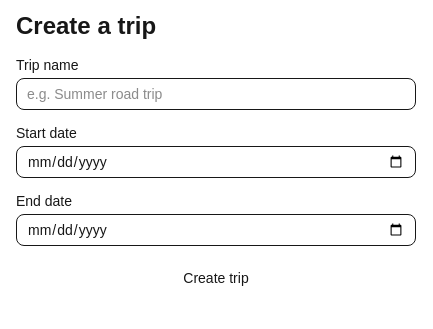
CreateTripPageView — form validation: end date before start date › shows date order error when end date is before start date
The image size is (433, 329).
Step 1. Type "My Trip" into the field labelled "Trip name" → (216, 94), box x1=16 y1=78 x2=416 y2=110
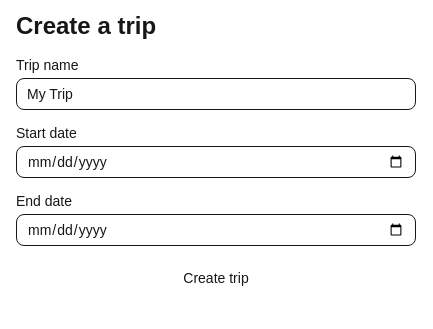
Step 2. Type "2025-06-10" into the date field labelled "Start date" → (216, 162), box x1=16 y1=146 x2=416 y2=178
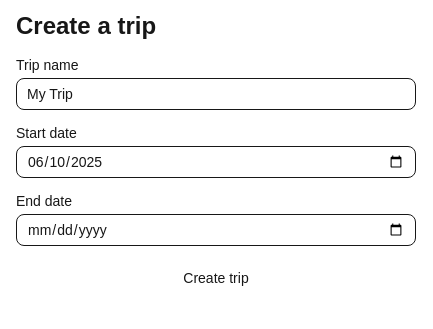
Step 3. Type "2025-06-01" into the date field labelled "End date" → (216, 230), box x1=16 y1=214 x2=416 y2=246
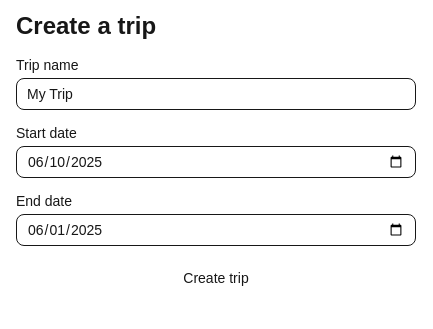
Step 4. Click the button "Create trip" → (216, 278), box x1=16 y1=262 x2=416 y2=294
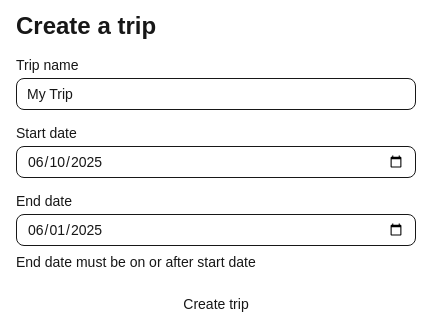
Expected: the text "End date must be on or after start date" is shown, x1=16 y1=254 x2=256 y2=270
